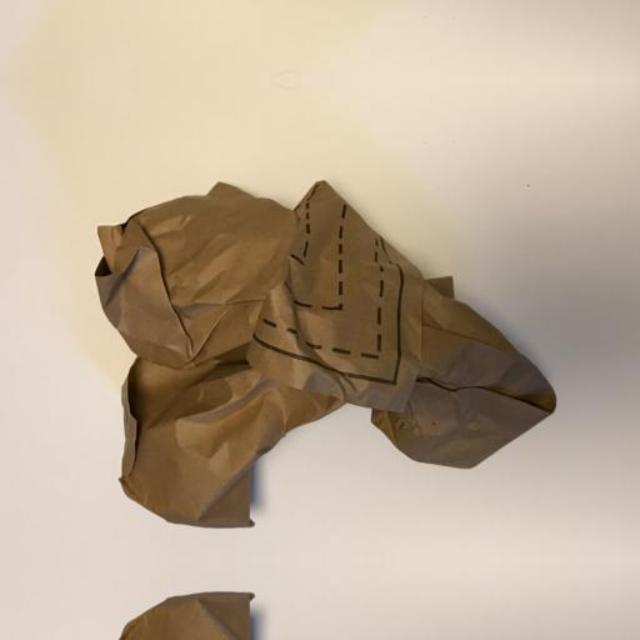paper: (44, 166, 576, 532), (44, 588, 576, 640)
